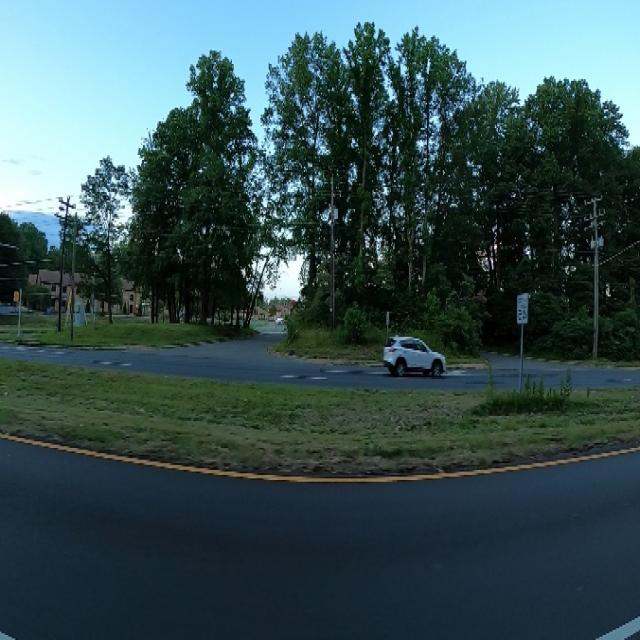cars: (378, 331, 451, 380)
